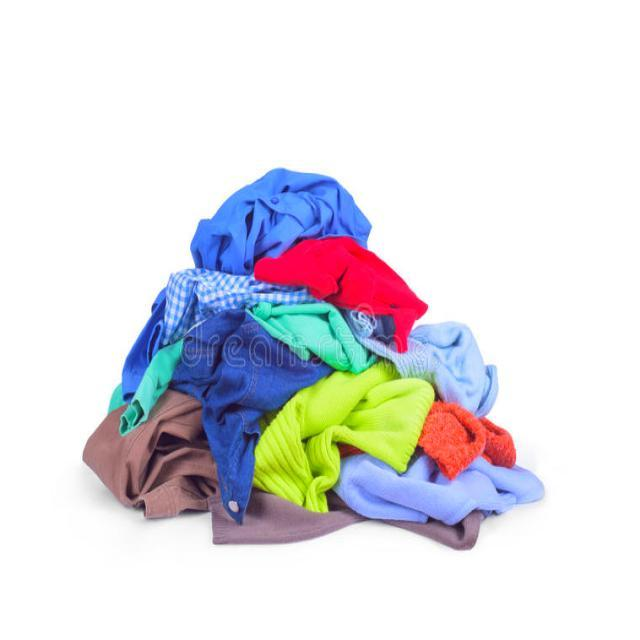clothes: (114, 194, 492, 543)
